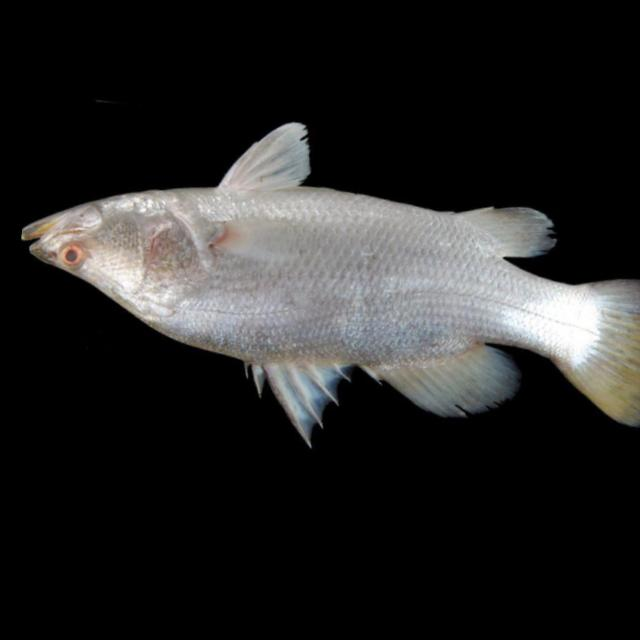Seabass: (5, 59, 640, 519)
